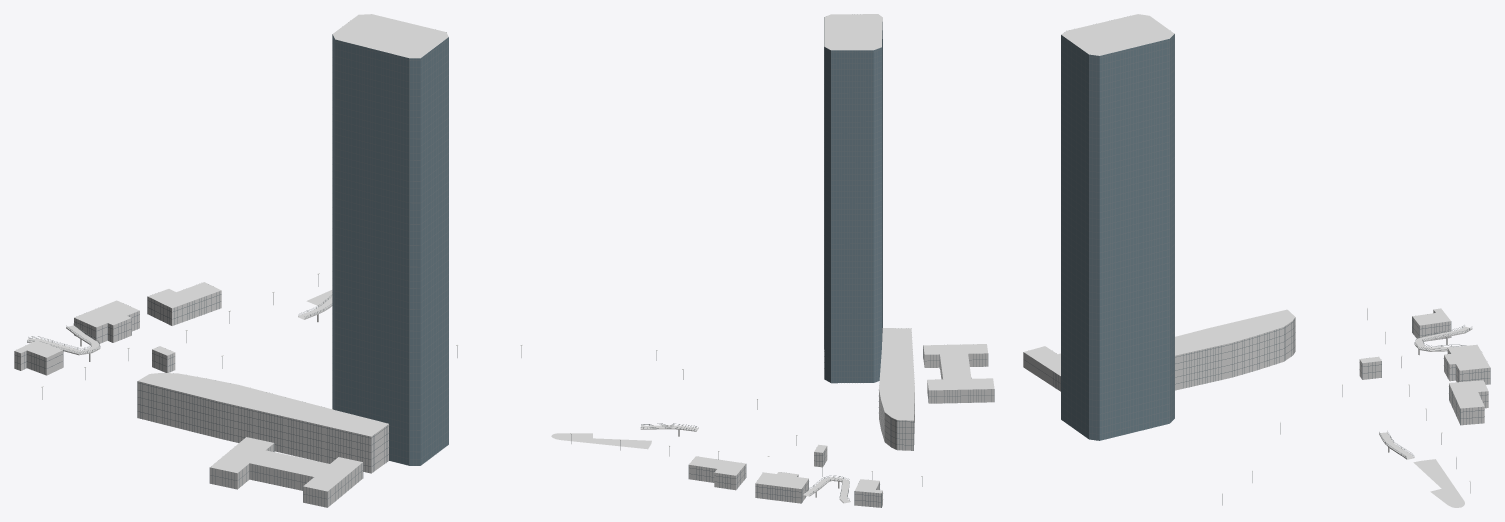
3 views of the same model, side by side, from view 1: azimuth 30°, elevation 25°; view 2: azimuth 150°, elevation 25°; view 3: azimuth 270°, elevation 25° (orthographic). The views are drawn at different scales.
Parts seen in each view (by area): view 1: 2_1_超高层蓝灰幕墙, 2_1_城市金属细框, 2_1_v02 米白石材, 2_1_v02 深灰屋面, 2_1_v02 铝合金幕墙框, 2_1_步行桥面 · 7m, 2_1_桥栏杆银灰; view 2: 2_1_超高层蓝灰幕墙, 2_1_城市金属细框, 2_1_v02 深灰屋面, 2_1_v02 米白石材, 2_1_v02 草地, 2_1_步行桥面 · 7m; view 3: 2_1_超高层蓝灰幕墙, 2_1_城市金属细框, 2_1_v02 深灰屋面, 2_1_v02 米白石材, 2_1_v02 草地, 2_1_步行桥面 · 7m, 2_1_桥栏杆银灰.
Part boxes in pixels (bbox=[...]): 2_1_超高层蓝灰幕墙: bbox=[332, 35, 448, 465]; 2_1_城市金属细框: bbox=[14, 32, 448, 473]; 2_1_v02 米白石材: bbox=[14, 290, 388, 507]; 2_1_v02 深灰屋面: bbox=[15, 14, 448, 491]; 2_1_v02 铝合金幕墙框: bbox=[209, 443, 363, 507]; 2_1_步行桥面 · 7m: bbox=[27, 297, 332, 355]; 2_1_桥栏杆银灰: bbox=[27, 274, 521, 399]; 2_1_超高层蓝灰幕墙: bbox=[824, 22, 882, 383]; 2_1_城市金属细框: bbox=[688, 17, 914, 507]; 2_1_v02 深灰屋面: bbox=[689, 14, 994, 493]; 2_1_v02 米白石材: bbox=[689, 347, 994, 507]; 2_1_v02 草地: bbox=[551, 433, 651, 449]; 2_1_步行桥面 · 7m: bbox=[640, 425, 850, 503]; 2_1_超高层蓝灰幕墙: bbox=[1061, 34, 1174, 440]; 2_1_城市金属细框: bbox=[1061, 34, 1490, 440]; 2_1_v02 深灰屋面: bbox=[1024, 14, 1490, 408]; 2_1_v02 米白石材: bbox=[1023, 310, 1490, 425]; 2_1_v02 草地: bbox=[1413, 459, 1464, 507]; 2_1_步行桥面 · 7m: bbox=[1379, 326, 1472, 459]; 2_1_桥栏杆银灰: bbox=[1222, 309, 1471, 505].
Size of the model in its own units: 239 by 230 by 252.
